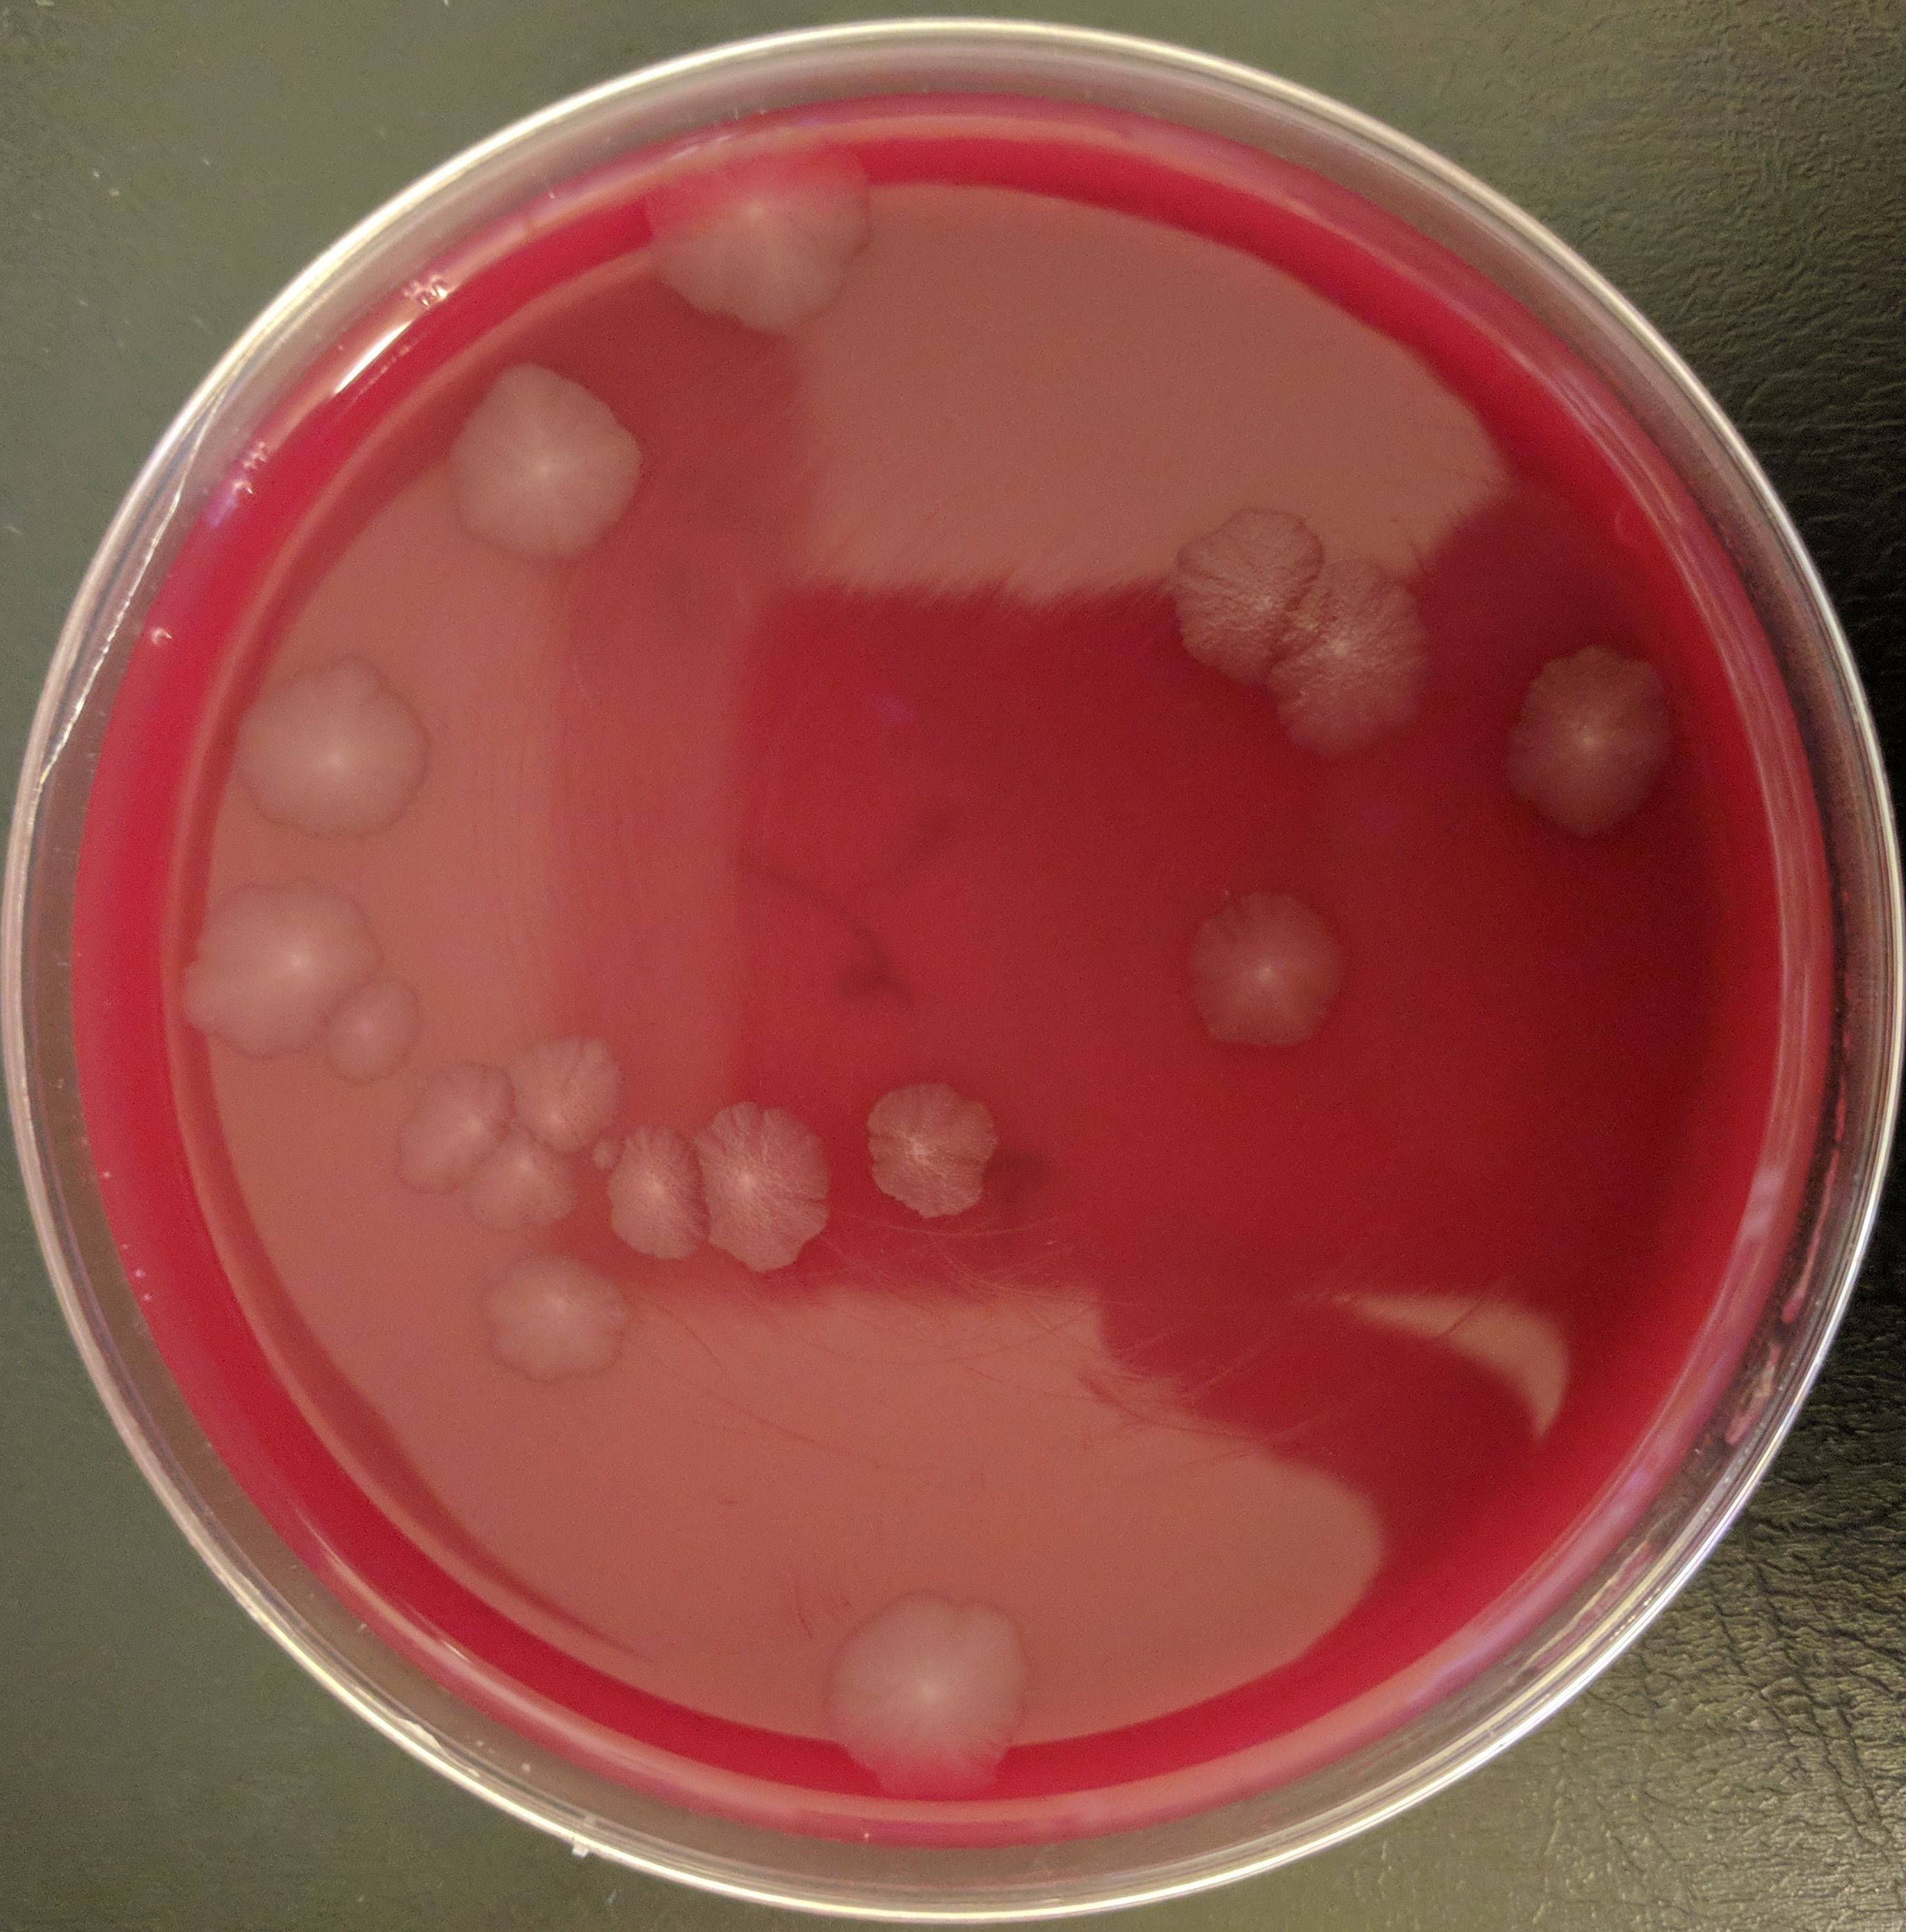sp08: (590, 112, 904, 387), (778, 1572, 1068, 1838), (421, 332, 648, 646), (183, 665, 483, 899), (684, 1065, 880, 1316), (1255, 581, 1450, 832), (106, 892, 372, 1059), (1171, 867, 1367, 1077), (1136, 469, 1306, 689), (834, 1051, 1030, 1236), (1506, 623, 1684, 822), (449, 1250, 644, 1400), (571, 1127, 721, 1309), (344, 1019, 490, 1190), (504, 1016, 644, 1157), (414, 1120, 581, 1236), (302, 965, 428, 1087)
